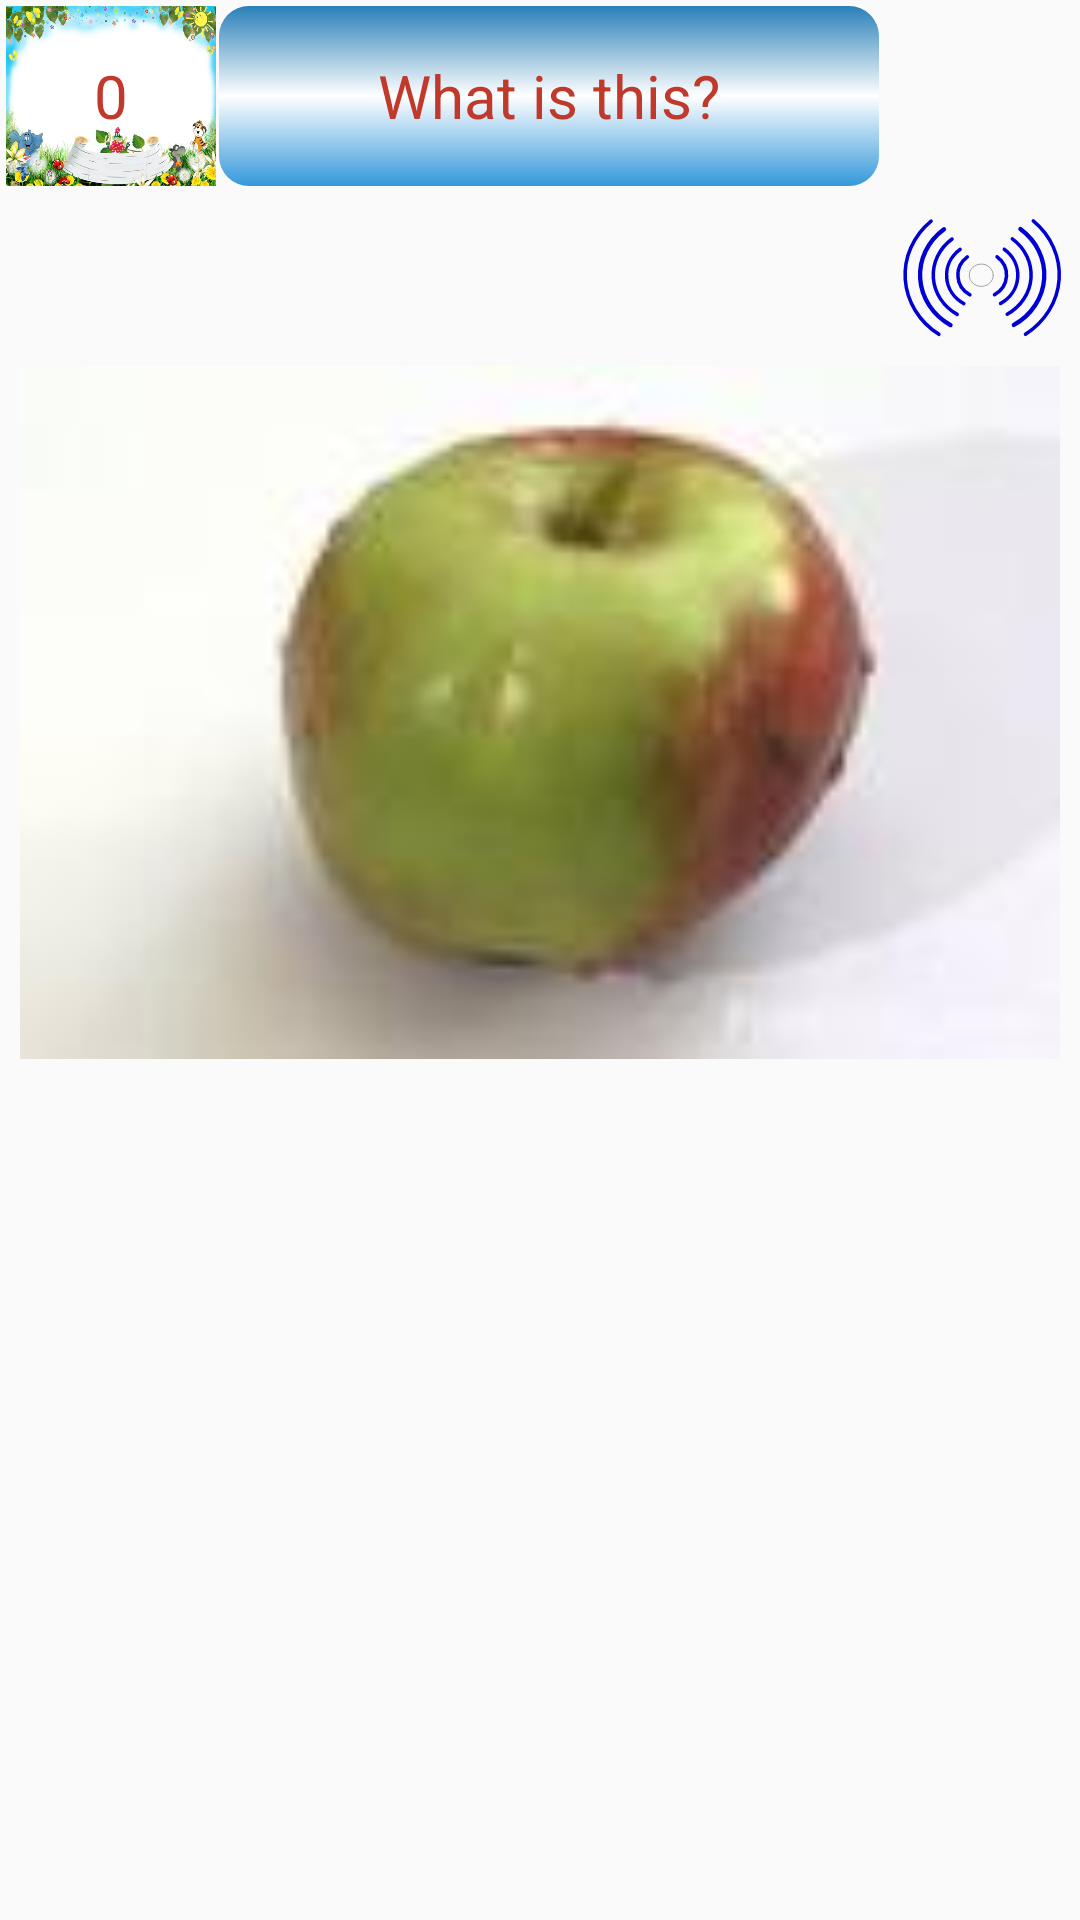

Screen size 1080x1920. Icon name, then its center in pixels as (x,y):
radio waves: (982,277)
